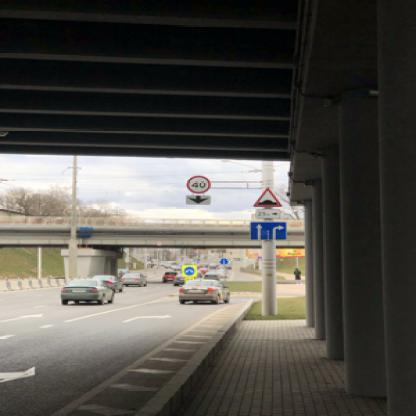speedlimit: (184, 174, 209, 192)
